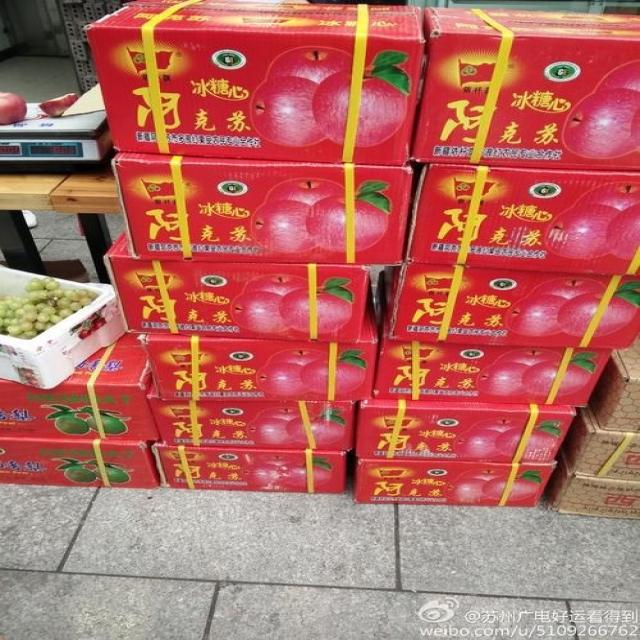box: (85, 1, 423, 165), (412, 9, 639, 170), (112, 152, 410, 266), (102, 228, 365, 343), (144, 276, 378, 401), (408, 163, 638, 277), (378, 263, 639, 351), (1, 330, 160, 441), (372, 340, 611, 406), (146, 380, 352, 453), (355, 397, 575, 464), (357, 459, 556, 508), (156, 448, 346, 494), (0, 439, 160, 488)
